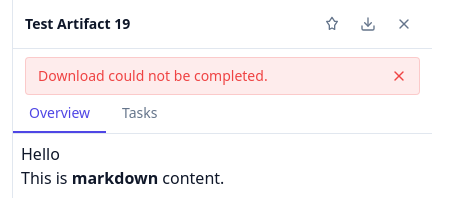
Canvas — download failure toast › dismiss button manually closes the error banner
The width and height of the screenshot is (449, 215).
Click the button named "dismiss error" at coordinates (399, 76), box x1=391 y1=68 x2=407 y2=84
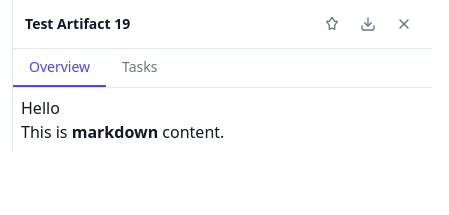
Expected: the message "Download could not be completed." is gone
